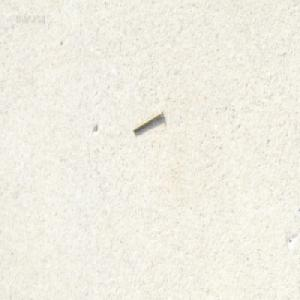Bolt: (133, 108, 164, 133)
